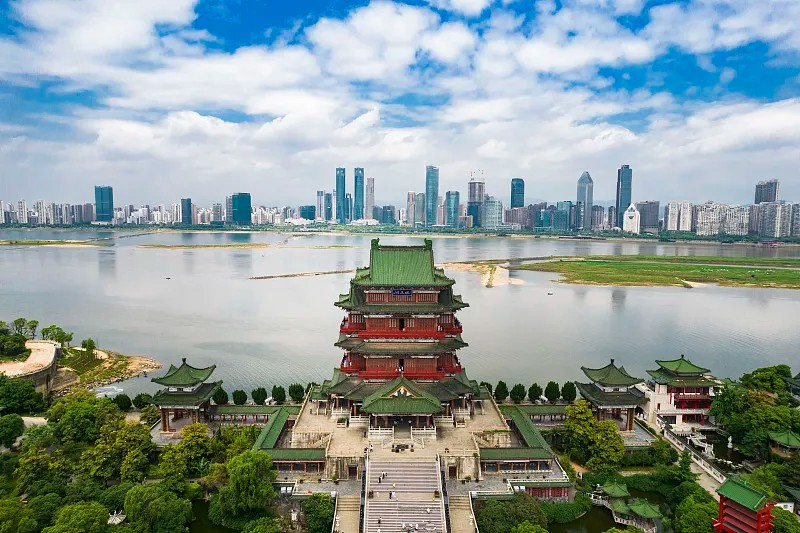Teng: (307, 238, 491, 427)
